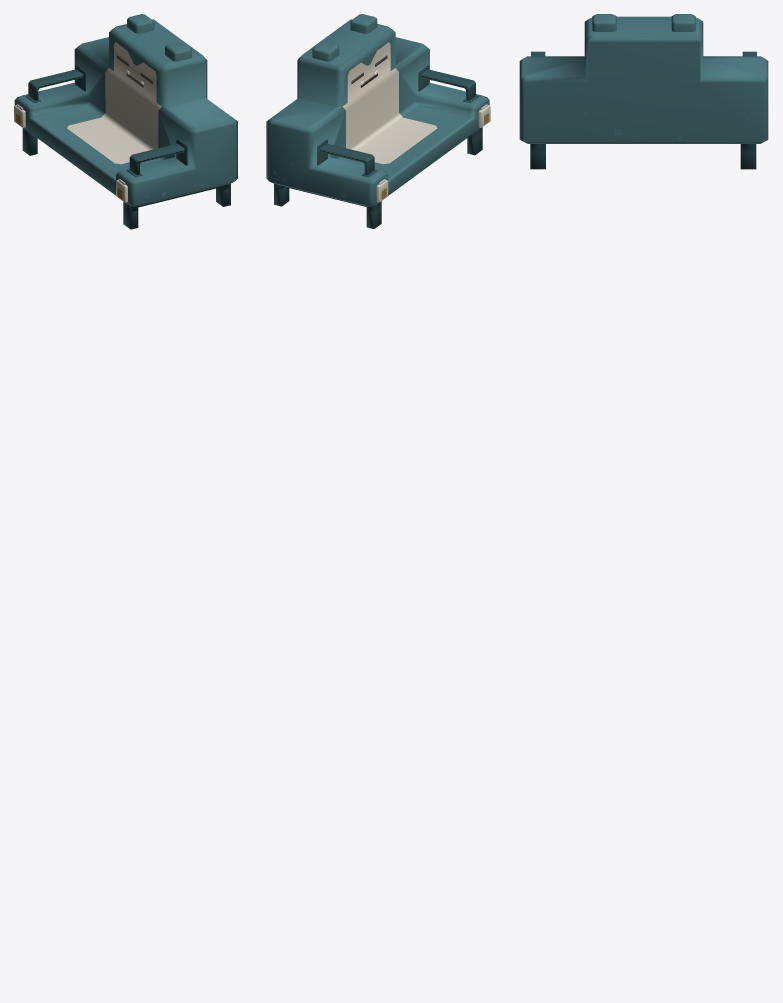
File: G_makeover_L_7.fbx
The picture shows the model from 3 angles, left to right: view 1: azimuth 30°, elevation 25°; view 2: azimuth 150°, elevation 25°; view 3: azimuth 270°, elevation 25°; orthographic projection. The views are drawn at different scales.
Visible parts, largest first — view 1: sofa_model; view 2: sofa_model; view 3: sofa_model.
Boxes of the visible parts, <box> form: sofa_model: <box>14,14,237,229</box>; sofa_model: <box>266,14,490,228</box>; sofa_model: <box>519,14,768,169</box>.
Size of the model in its own units: 4.32 by 35.02 by 8.
